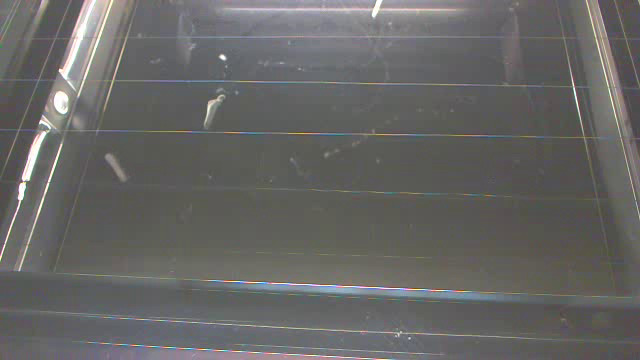alpha: (201, 85, 229, 134), (100, 146, 131, 186), (367, 1, 388, 21)
